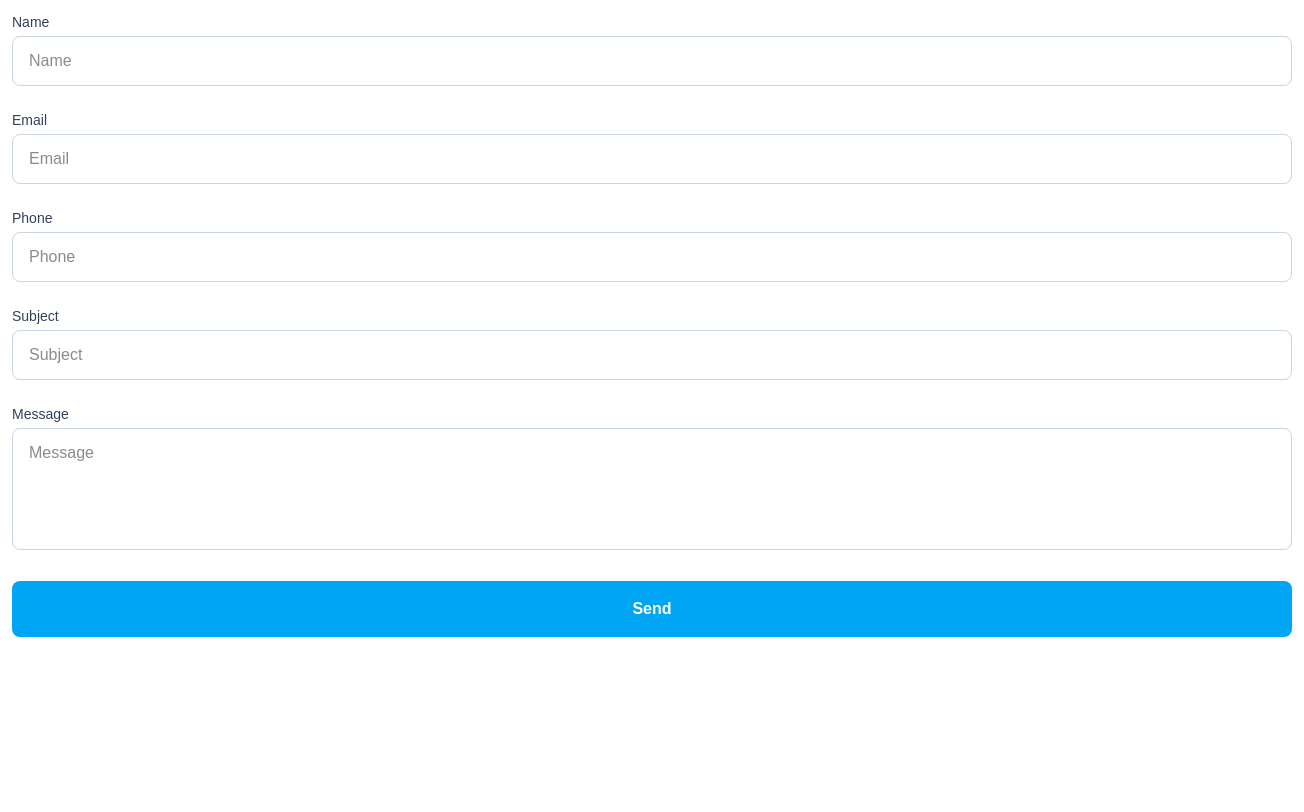
Test: ContactForm › should show success message on successful submission
Type "John Doe" into the field labelled "Name". click: point(652, 61)
box: [12, 36, 1292, 86]
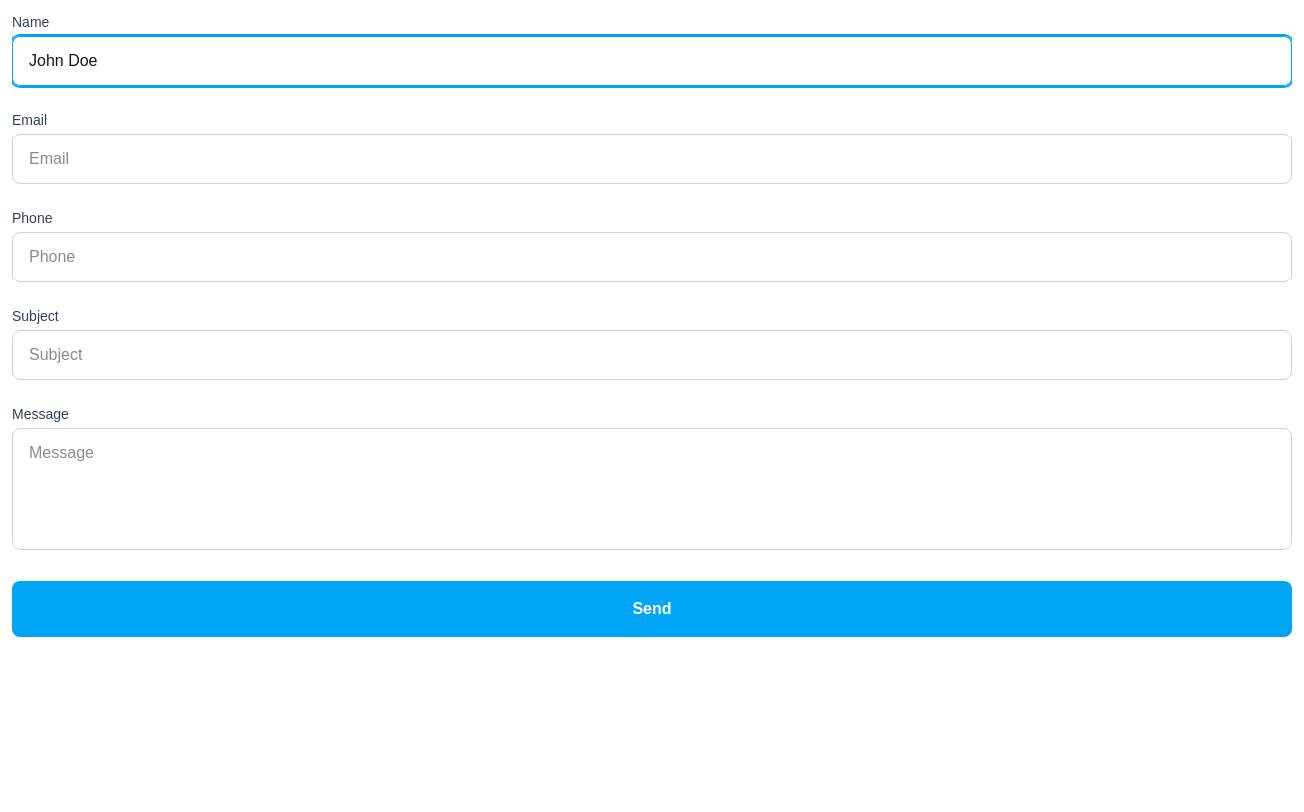
Type "john@example.com" into the field labelled "Email". click: point(652, 159)
box: [12, 134, 1292, 184]
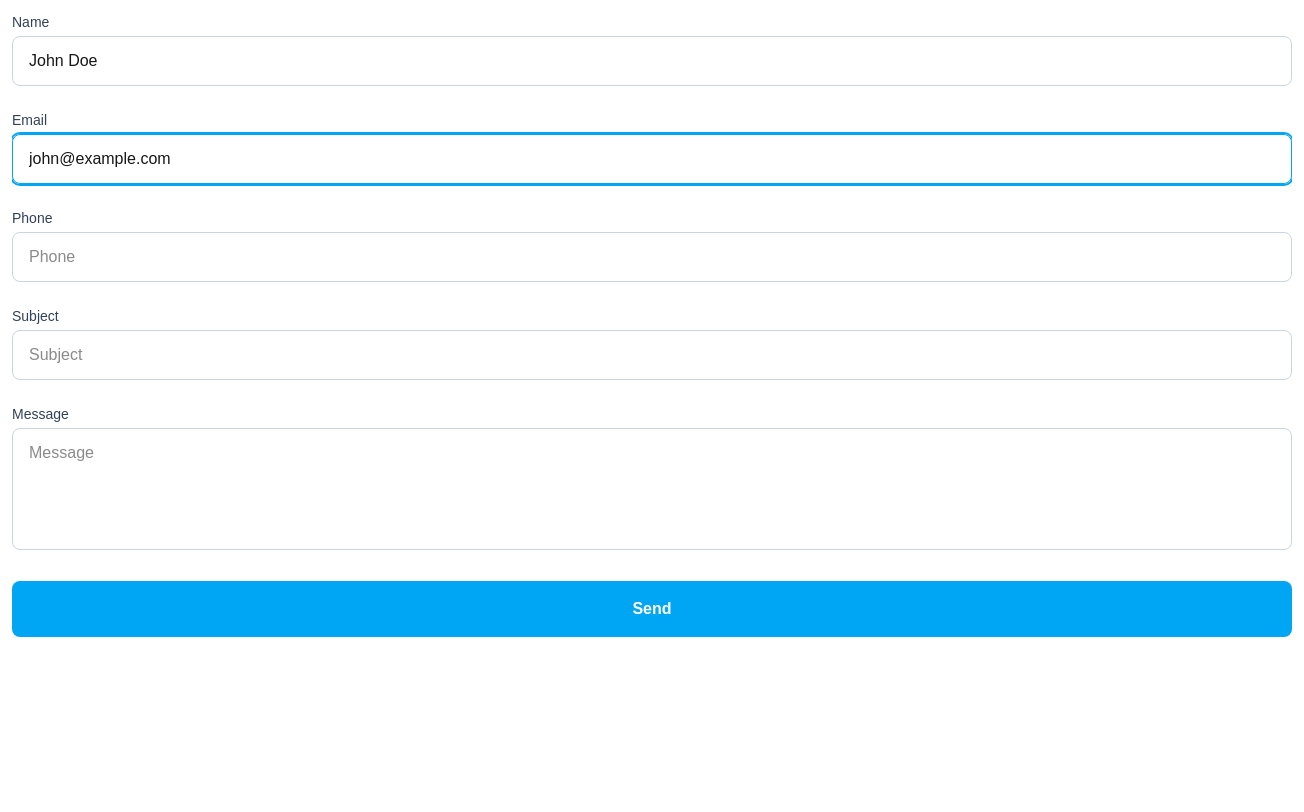
Type "This is a test message" into the text box labelled "Message". click: point(652, 489)
box: [12, 428, 1292, 550]
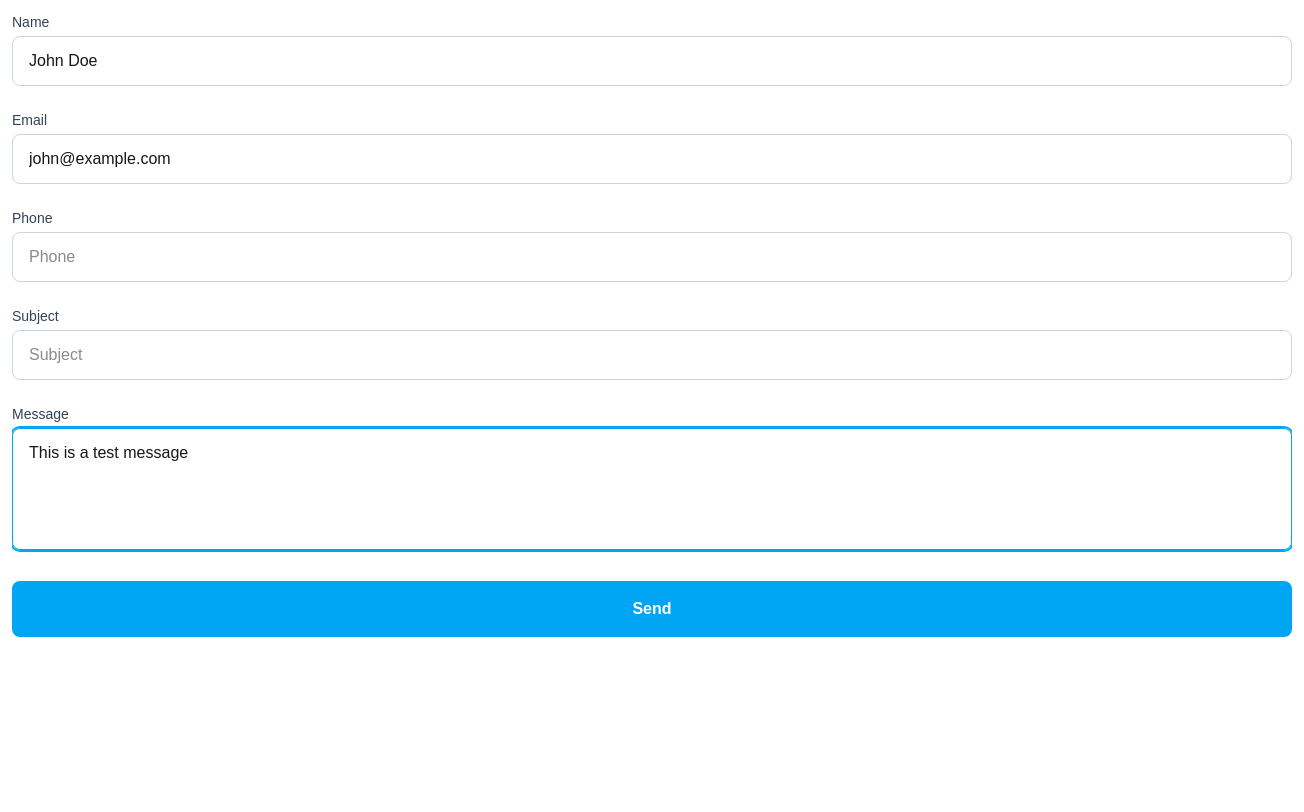
Click the button "Send". click: point(652, 609)
box: [12, 581, 1292, 637]
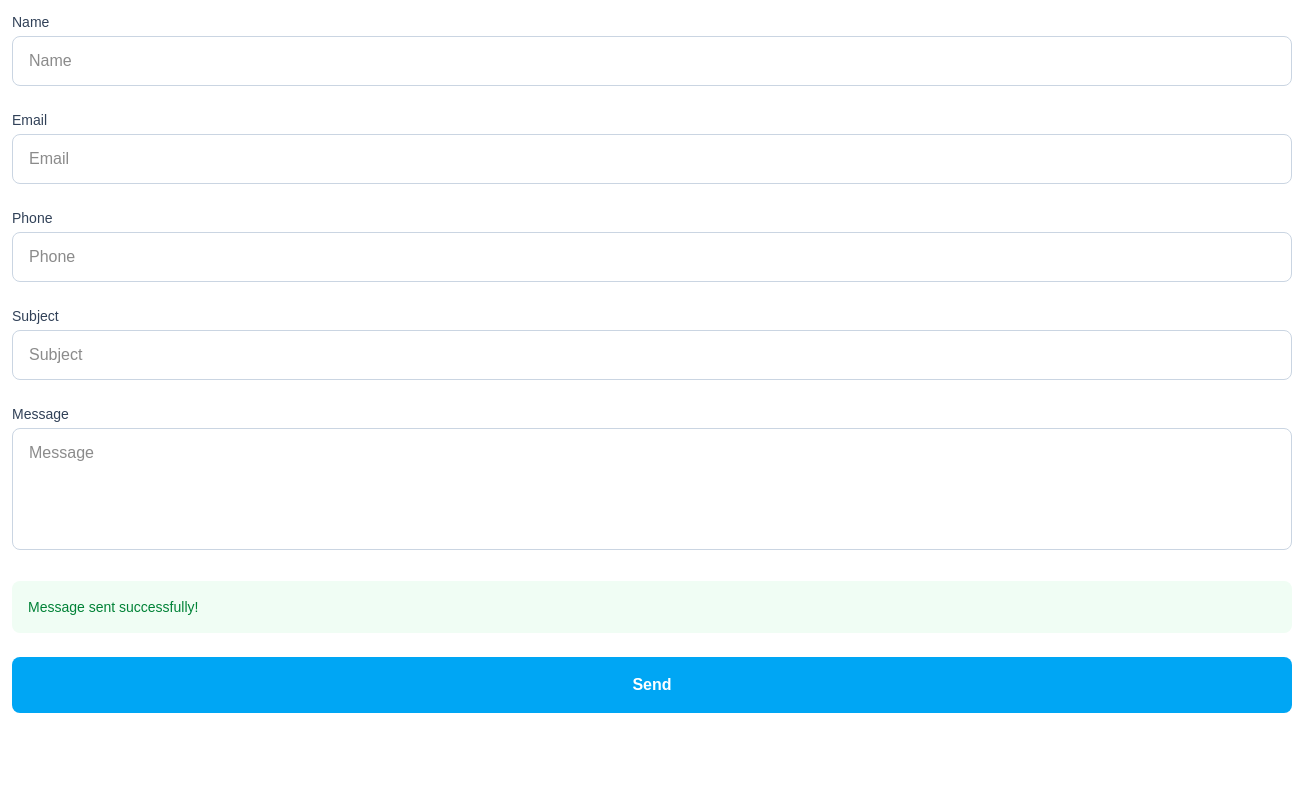
Expected: the text "Message sent successfully!" is shown, [12, 581, 1292, 633]
